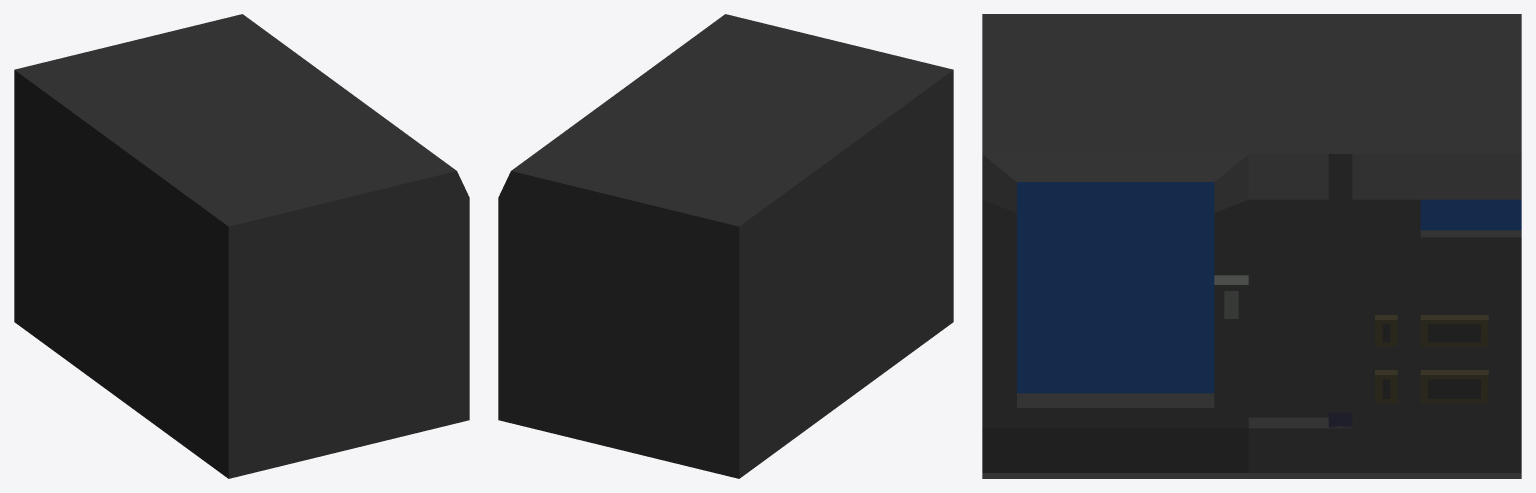
Rendered from micro.fbx.
The picture shows the model from 3 angles, left to right: view 1: azimuth 30°, elevation 25°; view 2: azimuth 150°, elevation 25°; view 3: azimuth 270°, elevation 25°; orthographic projection. The views are drawn at different scales.
Visible parts, largest first — view 1: Cube; view 2: Cube; view 3: Cube.
Part boxes in pixels (x1,y1,x2,y2): Cube: (14,14,469,478); Cube: (498,14,953,478); Cube: (982,14,1521,478).
Size of the model in its own units: 213 by 200 by 308.
